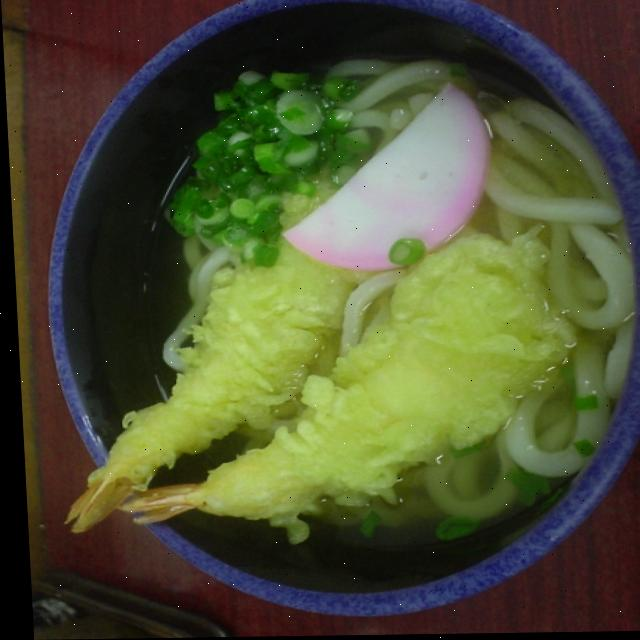面条主食: (30, 45, 640, 564)
